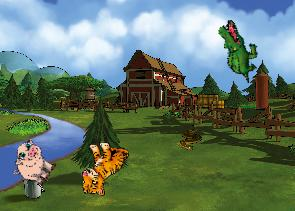crocodile: (204, 17, 271, 84)
pig: (6, 136, 61, 190)
tiger: (79, 139, 129, 197)
